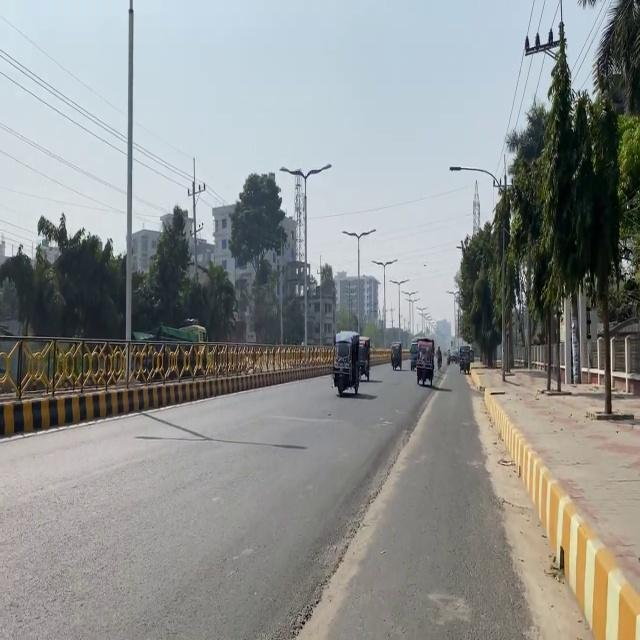Construction-barrier: (467, 363, 639, 638)
Downstairs: (331, 330, 360, 395), (390, 342, 402, 369)
Light-pole: (123, 0, 135, 384)
Pole: (0, 330, 262, 456)
Pothole: (341, 358, 640, 640)
Traffic-cone: (131, 318, 207, 377)
